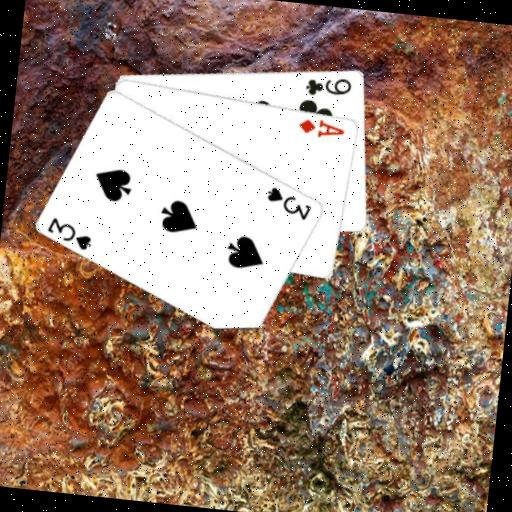3S: (263, 183, 316, 223), (43, 214, 97, 253)
9C: (301, 71, 354, 100)
AD: (295, 114, 347, 141)
